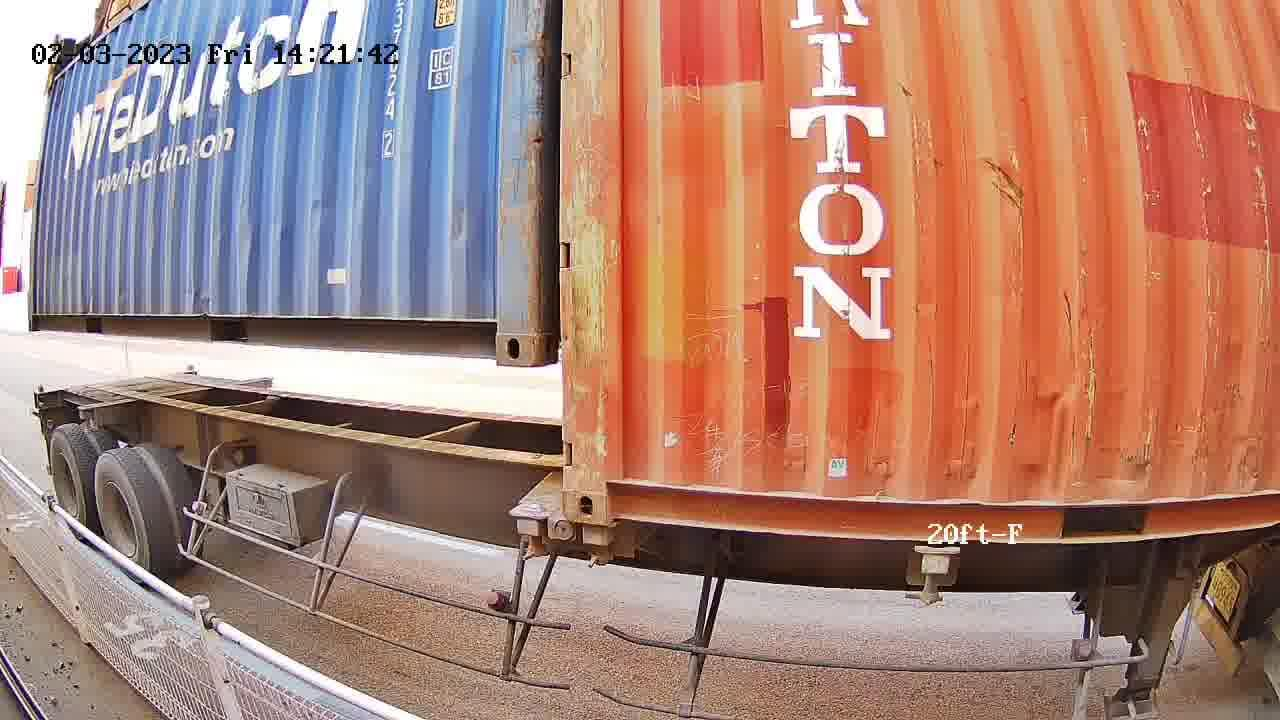Cone: (515, 504, 554, 559), (577, 525, 620, 566)
Hole_L: (562, 444, 657, 525)
Hole_R: (462, 292, 539, 368)
Tire: (92, 455, 160, 585), (49, 428, 93, 543)
